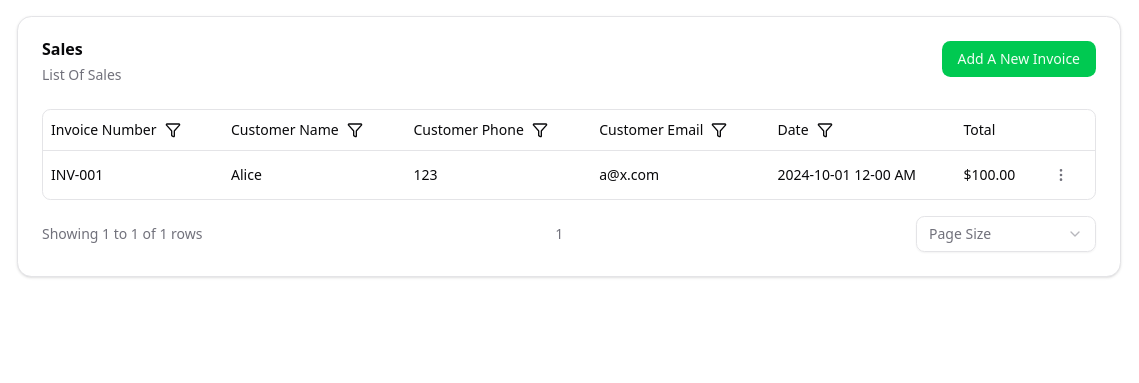
Test: Sales page pagination and filters › changes page size and refetches with new size
Check: the text "INV-001" is shown, box [43,150,223,198]
Click the dropdown.
click(1006, 234)  # box [916,216,1096,252]
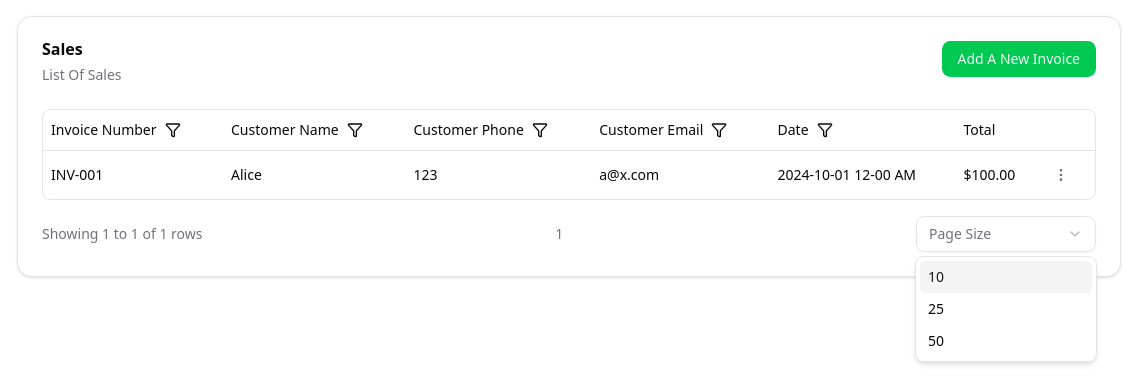
Click the option "25".
click(936, 308)  # box [928,299,944,318]
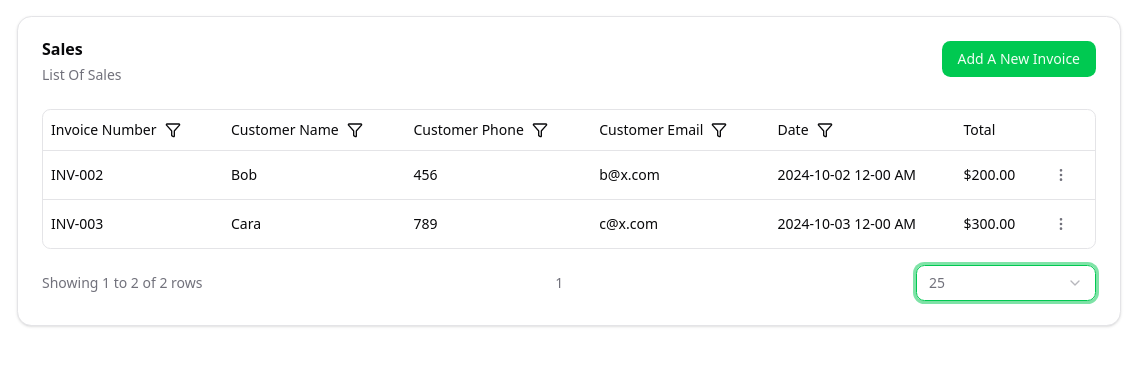
Check: the text "INV-002" is shown, box [43,150,223,199]
Check: the text "INV-003" is shown, box [43,199,223,248]
